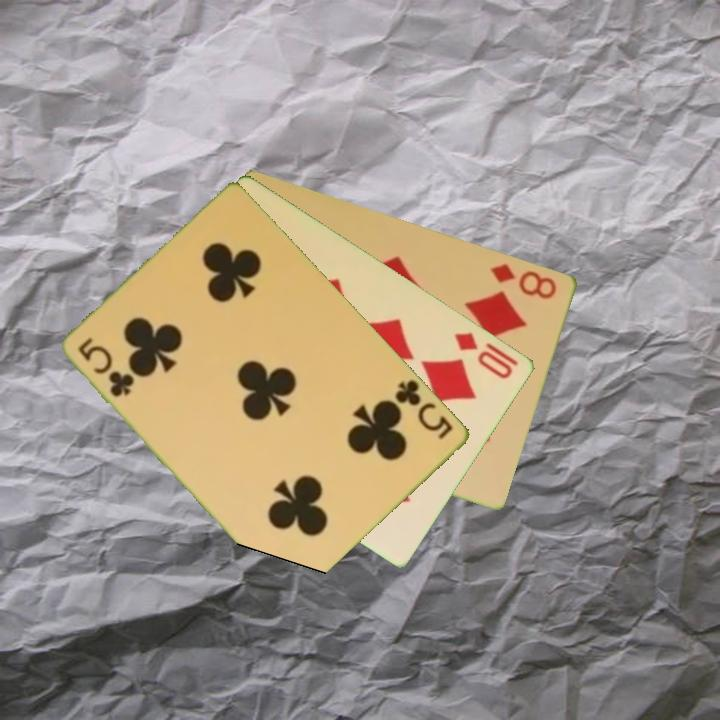10d: (451, 328, 522, 382)
5c: (392, 375, 457, 443), (75, 334, 138, 401)
8d: (486, 259, 560, 302)
